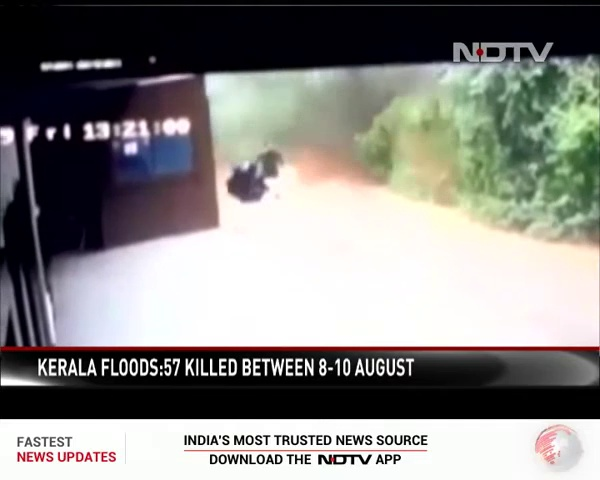person: (258, 144, 282, 198)
